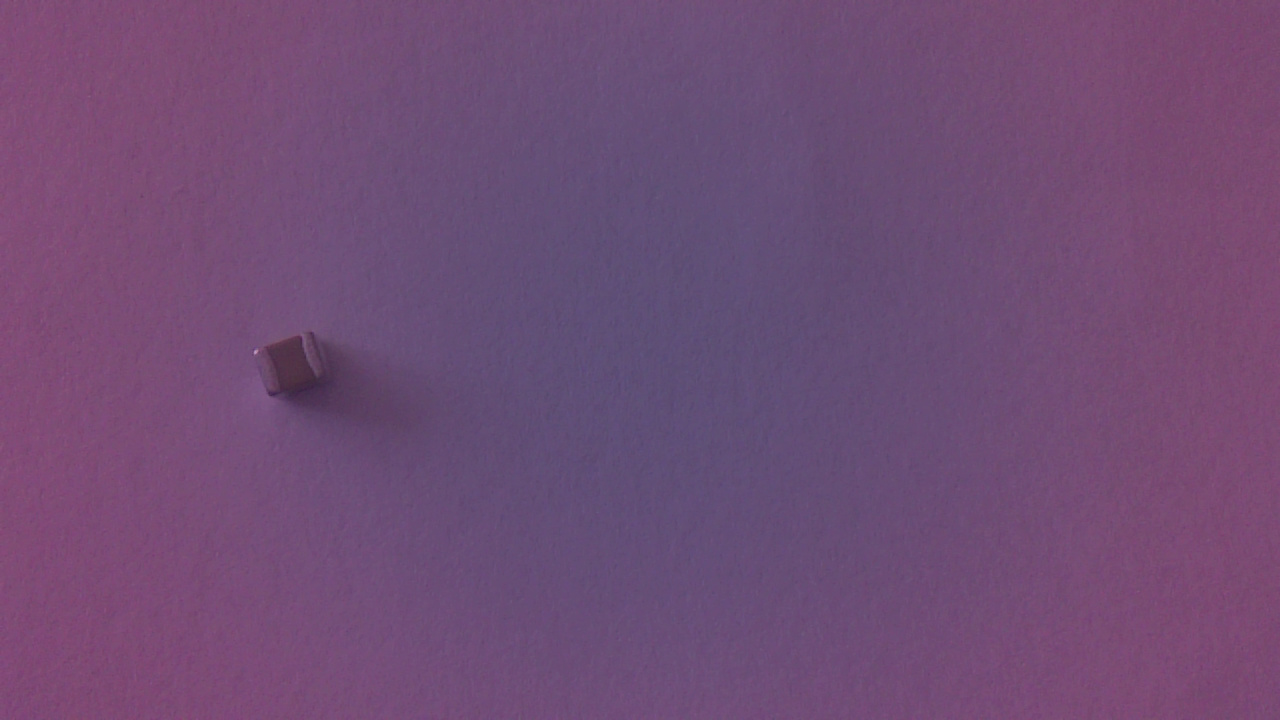Condensator: (253, 330, 341, 409)
